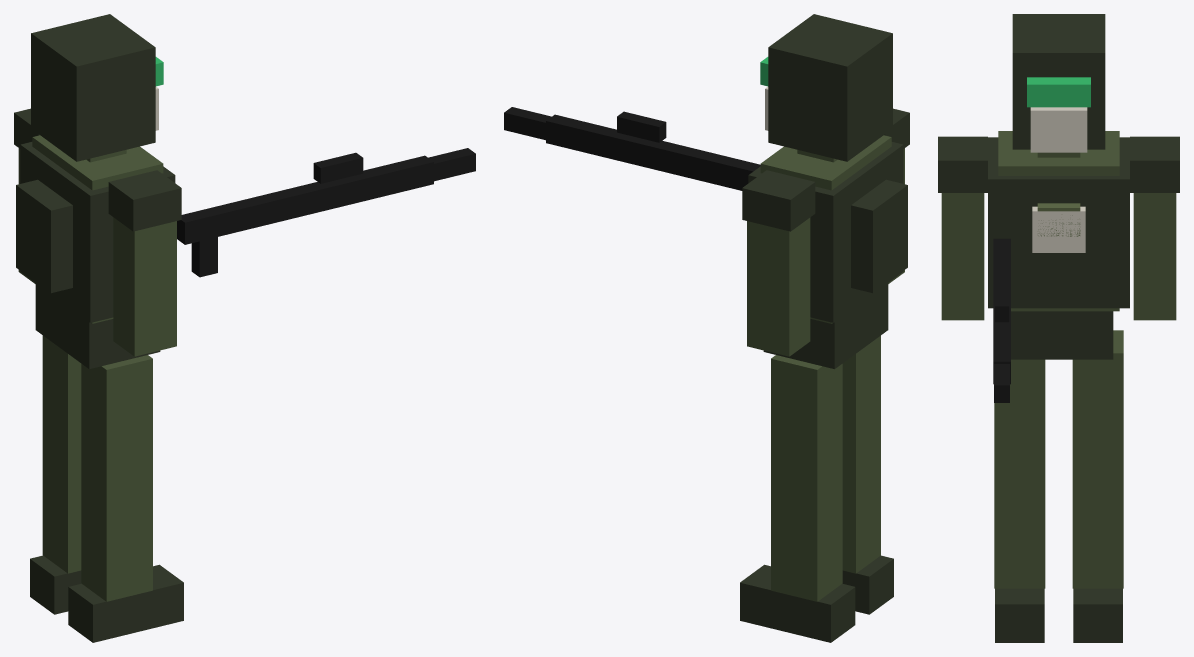
The model's file is op_recon.glb.
3 views of the same model, side by side, from view 1: azimuth 30°, elevation 25°; view 2: azimuth 150°, elevation 25°; view 3: azimuth 270°, elevation 25° (orthographic).
Parts seen in each view (by area): view 1: op_recon; view 2: op_recon; view 3: op_recon, StanceChip.
Boxes of the visible parts, x1=… form: op_recon: x1=14, y1=14, x2=475, y2=642; op_recon: x1=504, y1=14, x2=909, y2=642; op_recon: x1=938, y1=14, x2=1179, y2=642; StanceChip: x1=1027, y1=77, x2=1090, y2=107.
Size of the model in its own units: 1.35 by 1.8 by 0.68.
